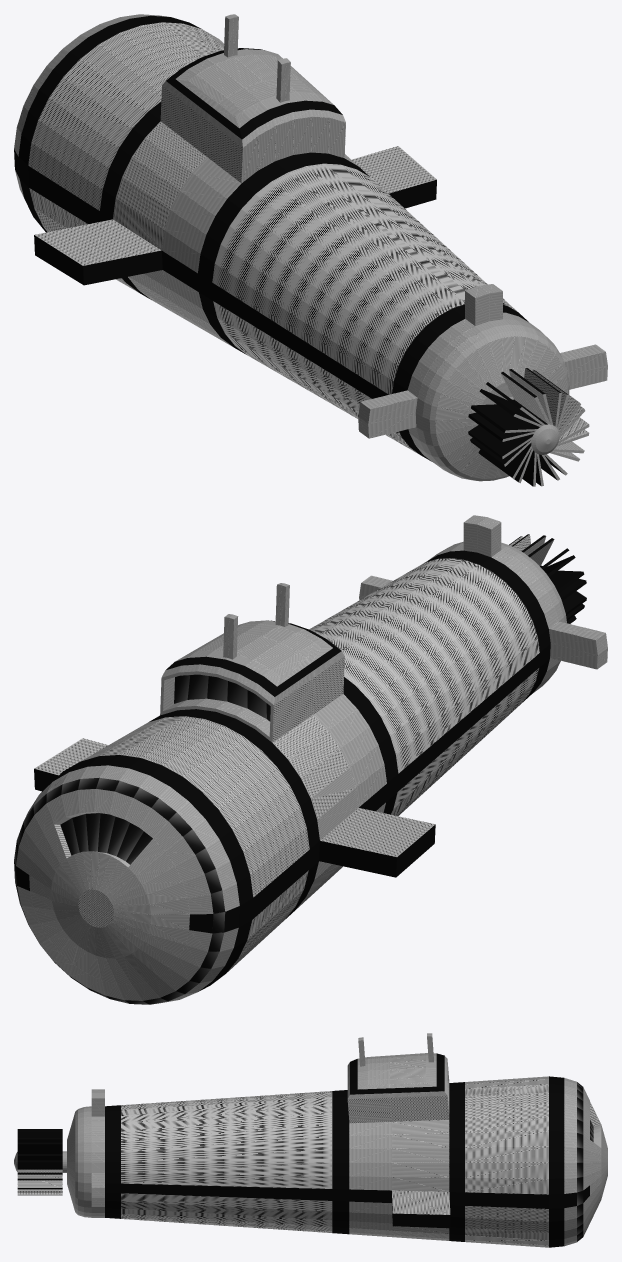
Rendered from SILVER_Submarine.fbx.
The picture shows the model from 3 angles, top to bottom: view 1: azimuth 30°, elevation 25°; view 2: azimuth 150°, elevation 25°; view 3: azimuth 270°, elevation 25°; orthographic projection. The views are drawn at different scales.
Visible parts, largest first — view 1: Cylinder; view 2: Cylinder; view 3: Cylinder.
Part boxes in pixels (x1,y1,x2,y2): Cylinder: [14, 14, 607, 486]; Cylinder: [14, 515, 607, 1004]; Cylinder: [14, 1033, 607, 1247].
Size of the model in its own units: 322 by 264 by 693.
